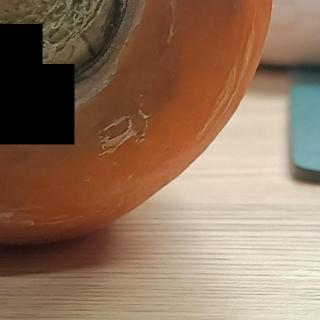carrot: (0, 0, 282, 248)
